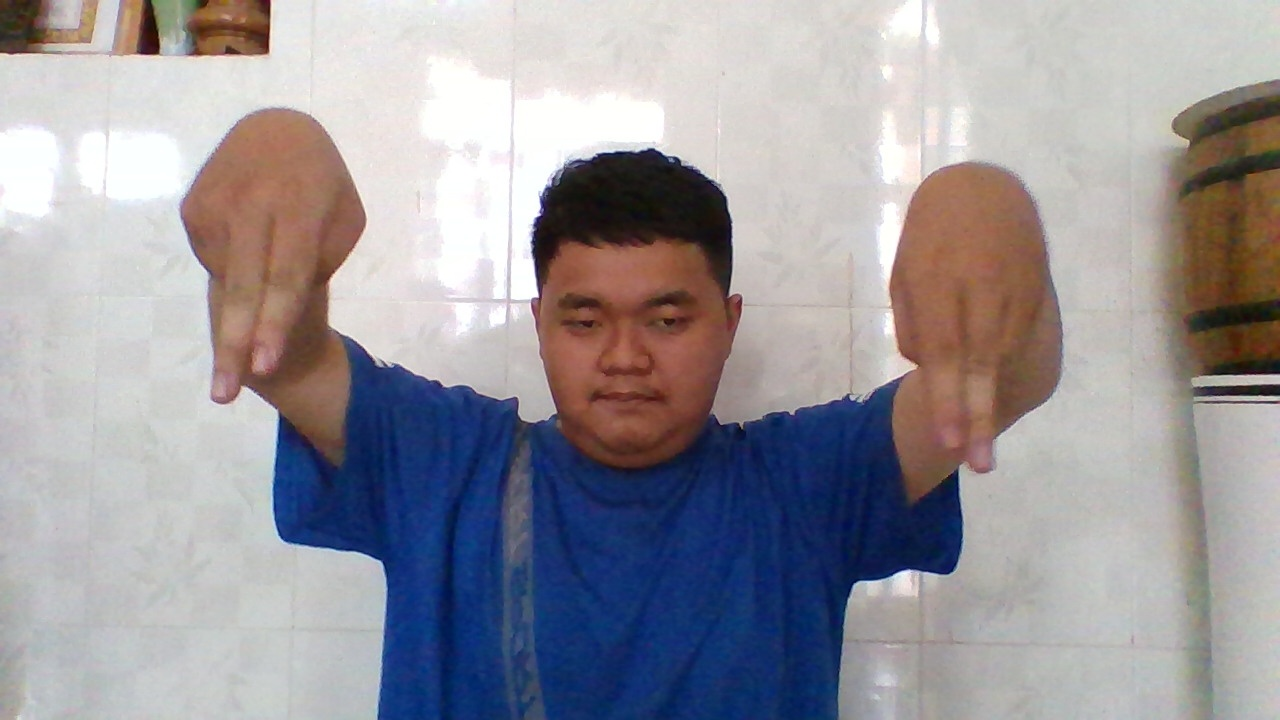N: (170, 104, 366, 412), (885, 162, 1060, 477)
